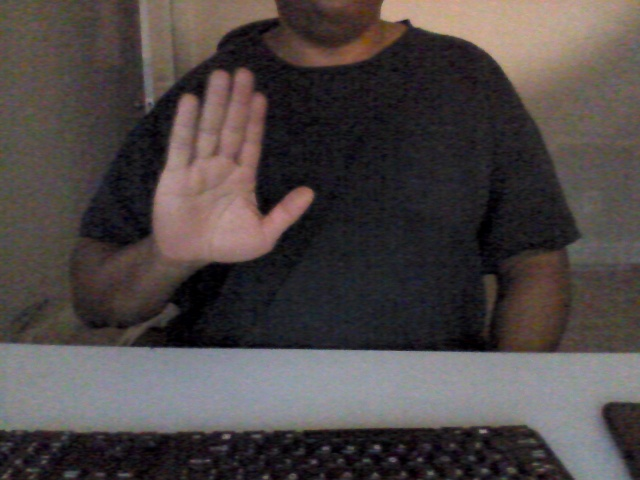hello: (152, 61, 316, 271)
